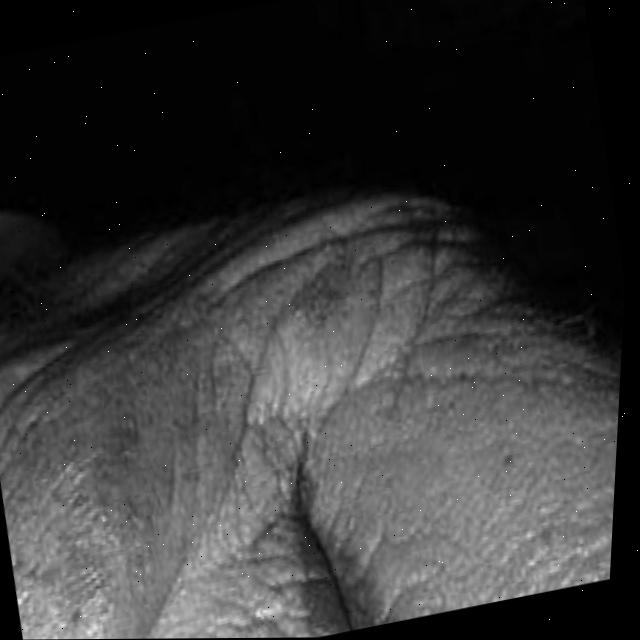Rosacea: (0, 269, 401, 640), (449, 405, 619, 604)
